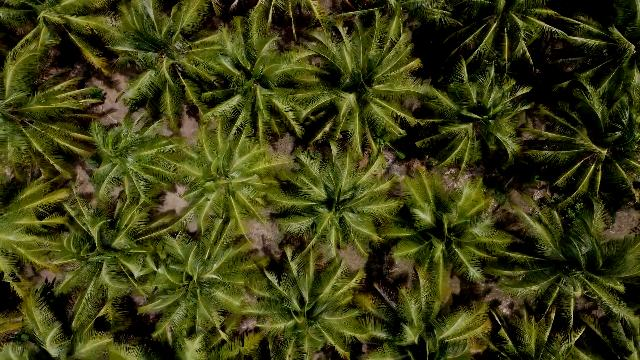trees: (290, 13, 432, 161), (12, 177, 179, 299), (2, 14, 112, 186), (487, 190, 639, 312), (131, 218, 263, 356), (193, 9, 319, 147), (95, 4, 233, 128), (267, 143, 406, 259), (517, 75, 638, 202), (387, 169, 516, 287), (240, 244, 368, 360), (354, 255, 495, 360), (410, 58, 534, 175), (85, 114, 193, 212), (436, 3, 563, 75), (5, 3, 126, 58), (537, 6, 638, 69)
